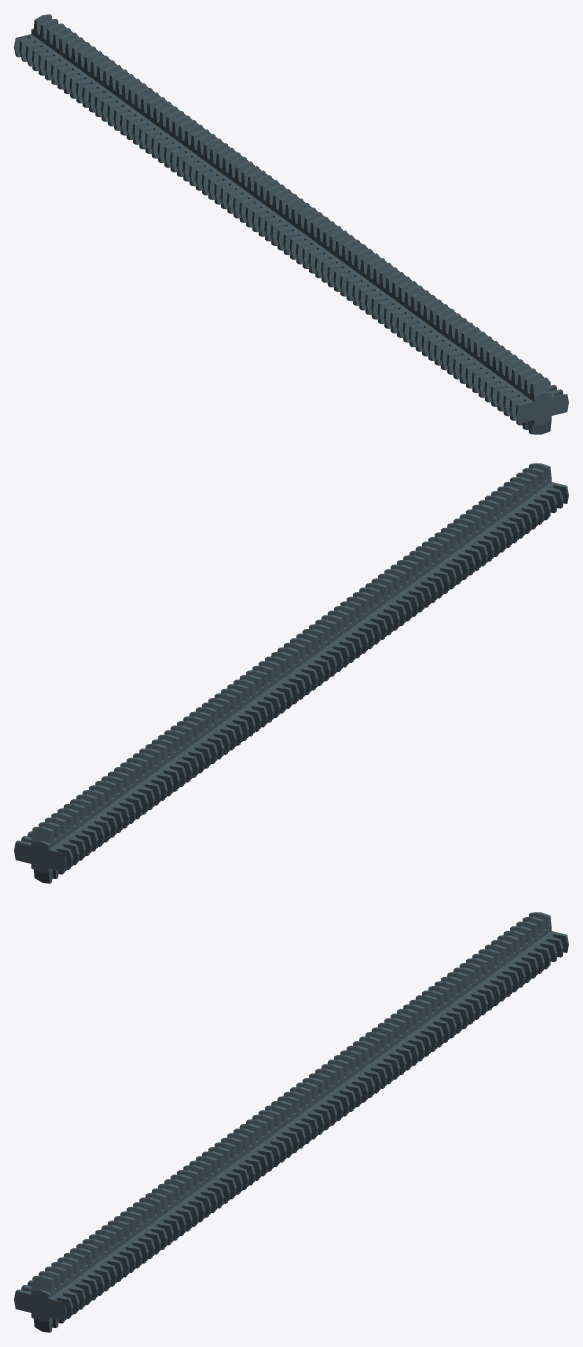
3 renders of one model, top to bottom at view 1: azimuth 30°, elevation 25°; view 2: azimuth 150°, elevation 25°; view 3: azimuth 330°, elevation 25°, orthographic.
Visible parts, largest first — view 1: world; view 2: world; view 3: world.
Boxes of the visible parts, bbox=[...] form: world: bbox=[14, 14, 568, 434]; world: bbox=[14, 463, 568, 883]; world: bbox=[14, 912, 568, 1332].
Bounding box in the file's own units: 0.0048 × 0.0048 × 0.08.
